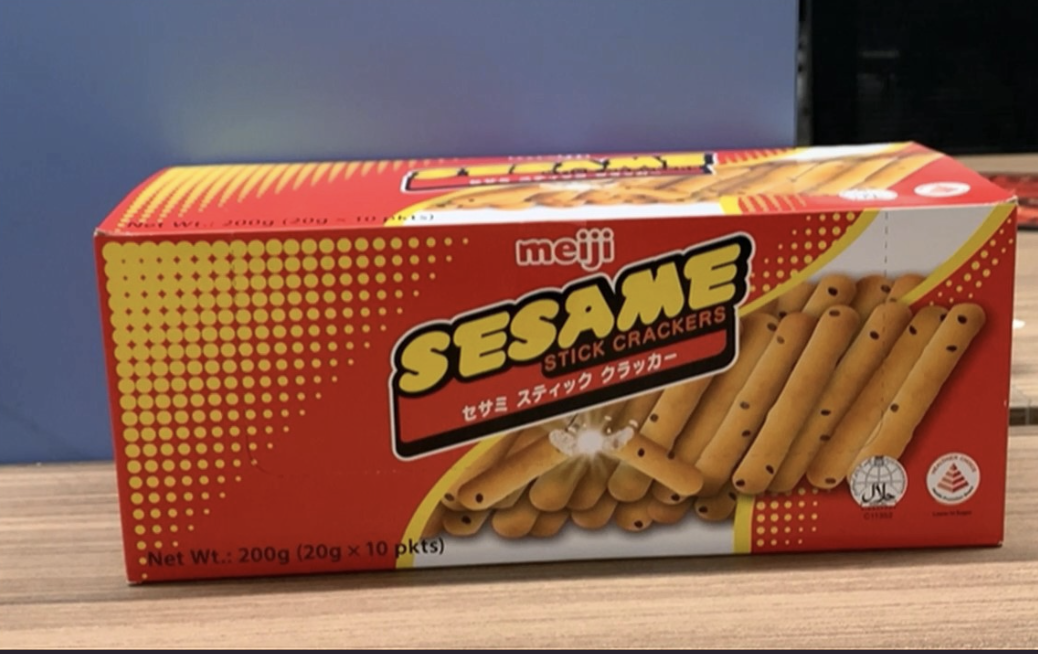crackers_150g: (141, 187, 1002, 573)
